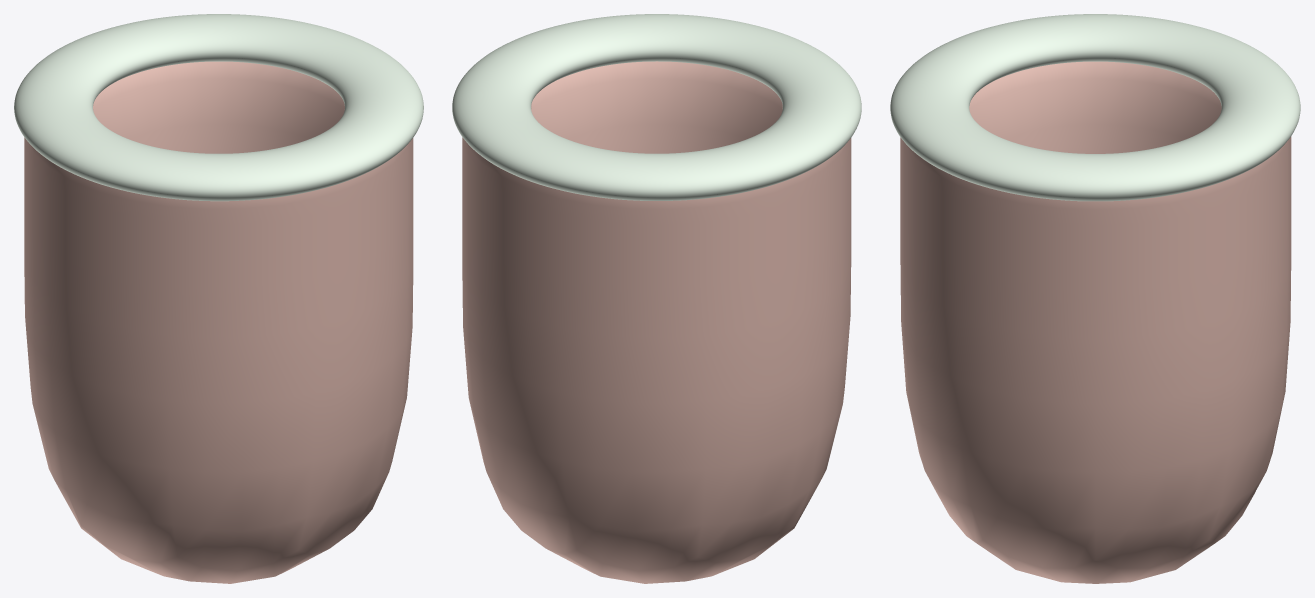
Rendered from garbage can.fbx.
3 renders of one model, left to right at view 1: azimuth 30°, elevation 25°; view 2: azimuth 150°, elevation 25°; view 3: azimuth 270°, elevation 25°, orthographic.
Parts seen in each view (by area): view 1: Cylinder.004, Torus.015; view 2: Cylinder.004, Torus.015; view 3: Cylinder.004, Torus.015.
Part boxes in pixels (box(x1,y1,x2,y2)): Cylinder.004: box(24, 61, 413, 583); Torus.015: box(14, 14, 423, 201); Cylinder.004: box(462, 61, 851, 583); Torus.015: box(452, 14, 861, 200); Cylinder.004: box(900, 61, 1291, 583); Torus.015: box(890, 14, 1300, 201).
Bounding box in the file's own units: 0.3789 × 0.4842 × 0.3789.
